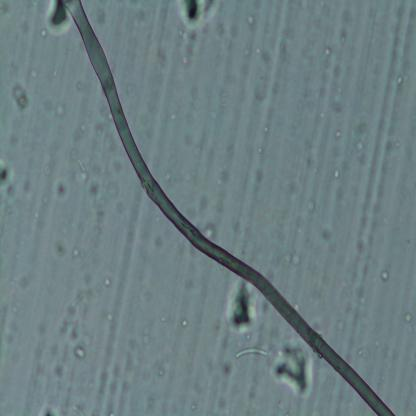Background material: (273, 338, 316, 402), (225, 277, 258, 334), (93, 350, 117, 413), (176, 1, 222, 32), (58, 295, 85, 345), (90, 116, 118, 154), (350, 270, 366, 320), (48, 1, 73, 30), (12, 79, 32, 112), (40, 93, 67, 117), (351, 116, 368, 154), (282, 246, 308, 270), (87, 206, 109, 234), (182, 30, 199, 66), (209, 160, 229, 186), (54, 172, 72, 197), (19, 174, 37, 198), (202, 217, 216, 242), (0, 159, 10, 190), (36, 404, 59, 416), (378, 263, 390, 283), (72, 348, 87, 363), (328, 97, 343, 112), (402, 308, 414, 326), (321, 224, 331, 245), (394, 70, 404, 89), (328, 164, 339, 181), (245, 14, 255, 32), (306, 200, 317, 216), (256, 119, 269, 132), (166, 109, 178, 123), (91, 177, 101, 193), (53, 365, 65, 377), (385, 137, 394, 152), (321, 46, 333, 57), (36, 27, 47, 38), (333, 127, 343, 139), (103, 273, 111, 288), (318, 108, 327, 120), (30, 65, 38, 78), (175, 238, 182, 250), (74, 245, 80, 258), (182, 316, 188, 328), (158, 366, 164, 378), (357, 347, 364, 355), (105, 314, 112, 321)
Glass filter fibre: (235, 345, 270, 360), (77, 156, 88, 173)
Microfibre: (60, 0, 396, 416)
